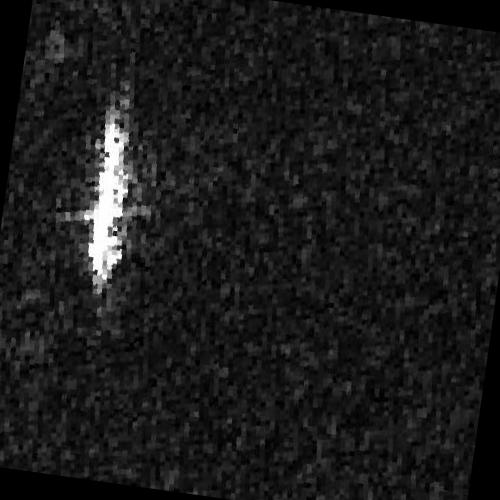ship: (89, 110, 129, 291)
